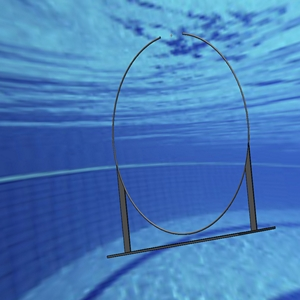circle: (106, 34, 280, 258)
